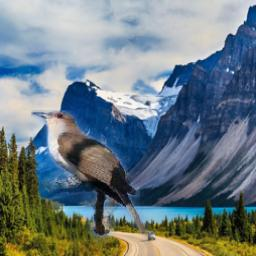Cuckoo: (32, 110, 154, 247)
